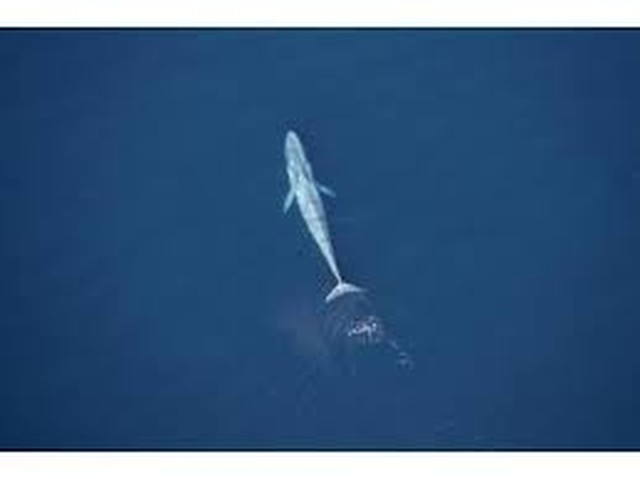whale: (277, 128, 370, 304)
